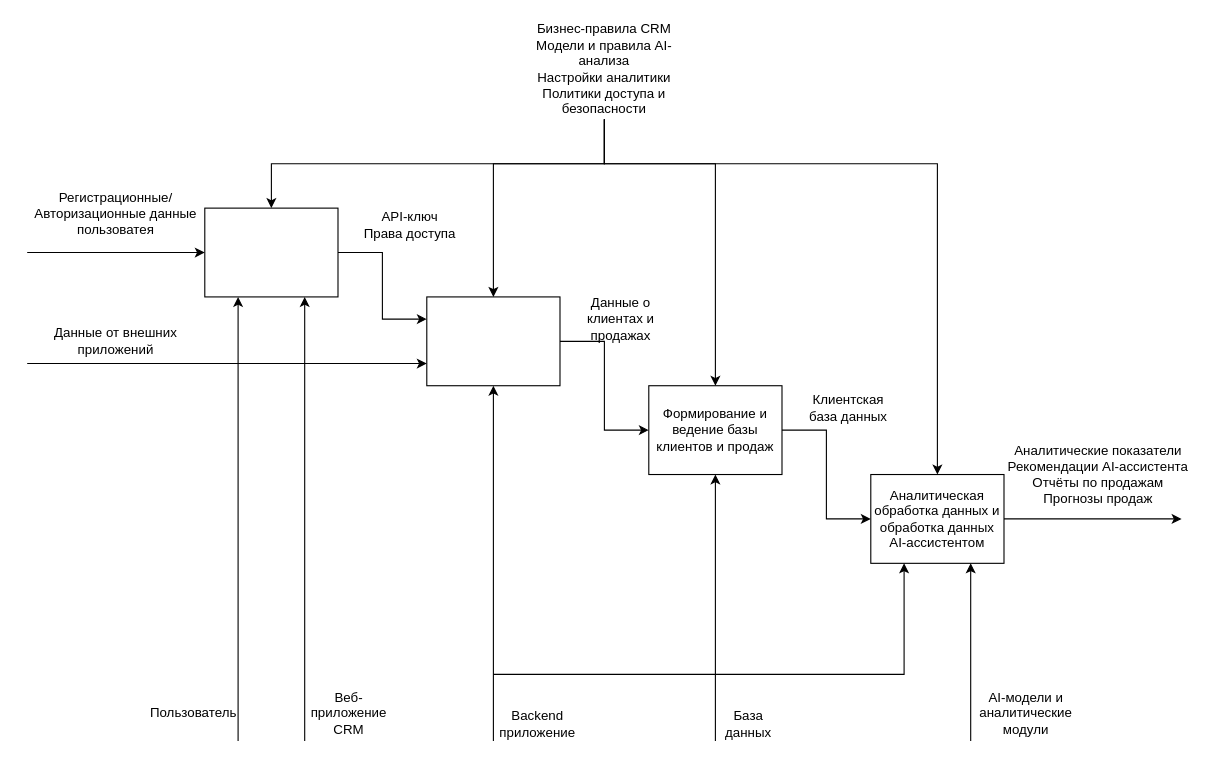
Image size: 1212x769. Some labels were removed from this diagram. Here are the shapes that lost their labels. From the top down, the centre of each, then its label:
At (x=271, y=252): "Управление пользователями и доступом".
At (x=493, y=341): "Приём данных через API".
